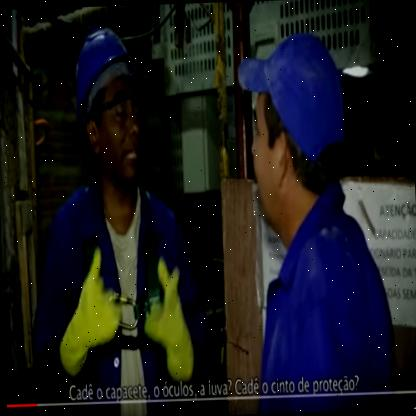capacete: (70, 25, 150, 198)
sem_capacete: (233, 30, 354, 239)
sem_colete_refletivo: (25, 171, 217, 415), (252, 180, 397, 414)
